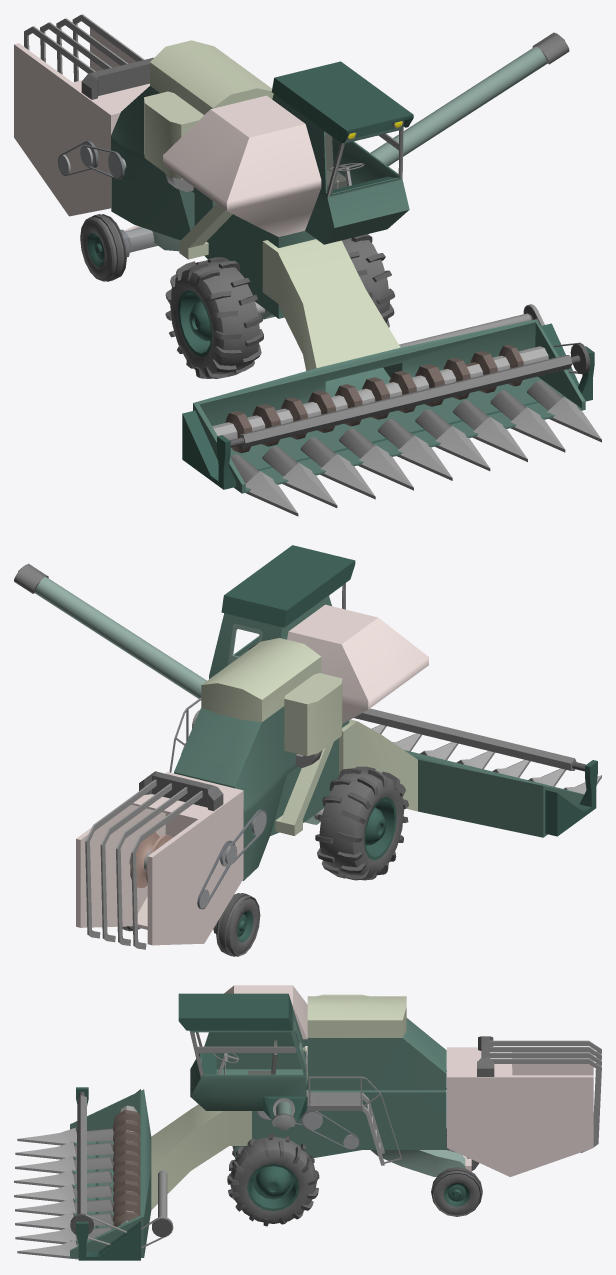
File: CombineHarvester.gltf
3 renders of one model, top to bottom at view 1: azimuth 30°, elevation 25°; view 2: azimuth 150°, elevation 25°; view 3: azimuth 270°, elevation 25°, orthographic. The views are drawn at different scales.
Visible parts, largest first — view 1: body, wheel_51, wheel_52, wheel_14, wheel_61, wheel_49; view 2: body, wheel_51, wheel_52, wheel_61, wheel_49; view 3: body, wheel_15, wheel_8, wheel_14, wheel_12, wheel_16.
Boxes of the visible parts, x1=… form: body: x1=14, y1=14, x2=601, y2=516; wheel_51: x1=187, y1=262, x2=260, y2=374; wheel_52: x1=170, y1=270, x2=224, y2=374; wheel_14: x1=342, y1=238, x2=389, y2=322; wheel_61: x1=81, y1=219, x2=112, y2=279; wheel_49: x1=180, y1=293, x2=210, y2=353; body: x1=14, y1=545, x2=601, y2=949; wheel_51: x1=319, y1=769, x2=391, y2=878; wheel_52: x1=353, y1=778, x2=404, y2=878; wheel_61: x1=230, y1=898, x2=258, y2=954; wheel_49: x1=366, y1=800, x2=394, y2=857; body: x1=14, y1=985, x2=601, y2=1260; wheel_15: x1=232, y1=1149, x2=314, y2=1223; wheel_8: x1=434, y1=1173, x2=479, y2=1215; wheel_14: x1=230, y1=1136, x2=316, y2=1200; wheel_12: x1=250, y1=1177, x2=296, y2=1208; wheel_16: x1=247, y1=1164, x2=299, y2=1211.
Bounding box in the file's own units: 10.83 × 5.88 × 15.28.
Materials: 1 (1 with a texture image).
